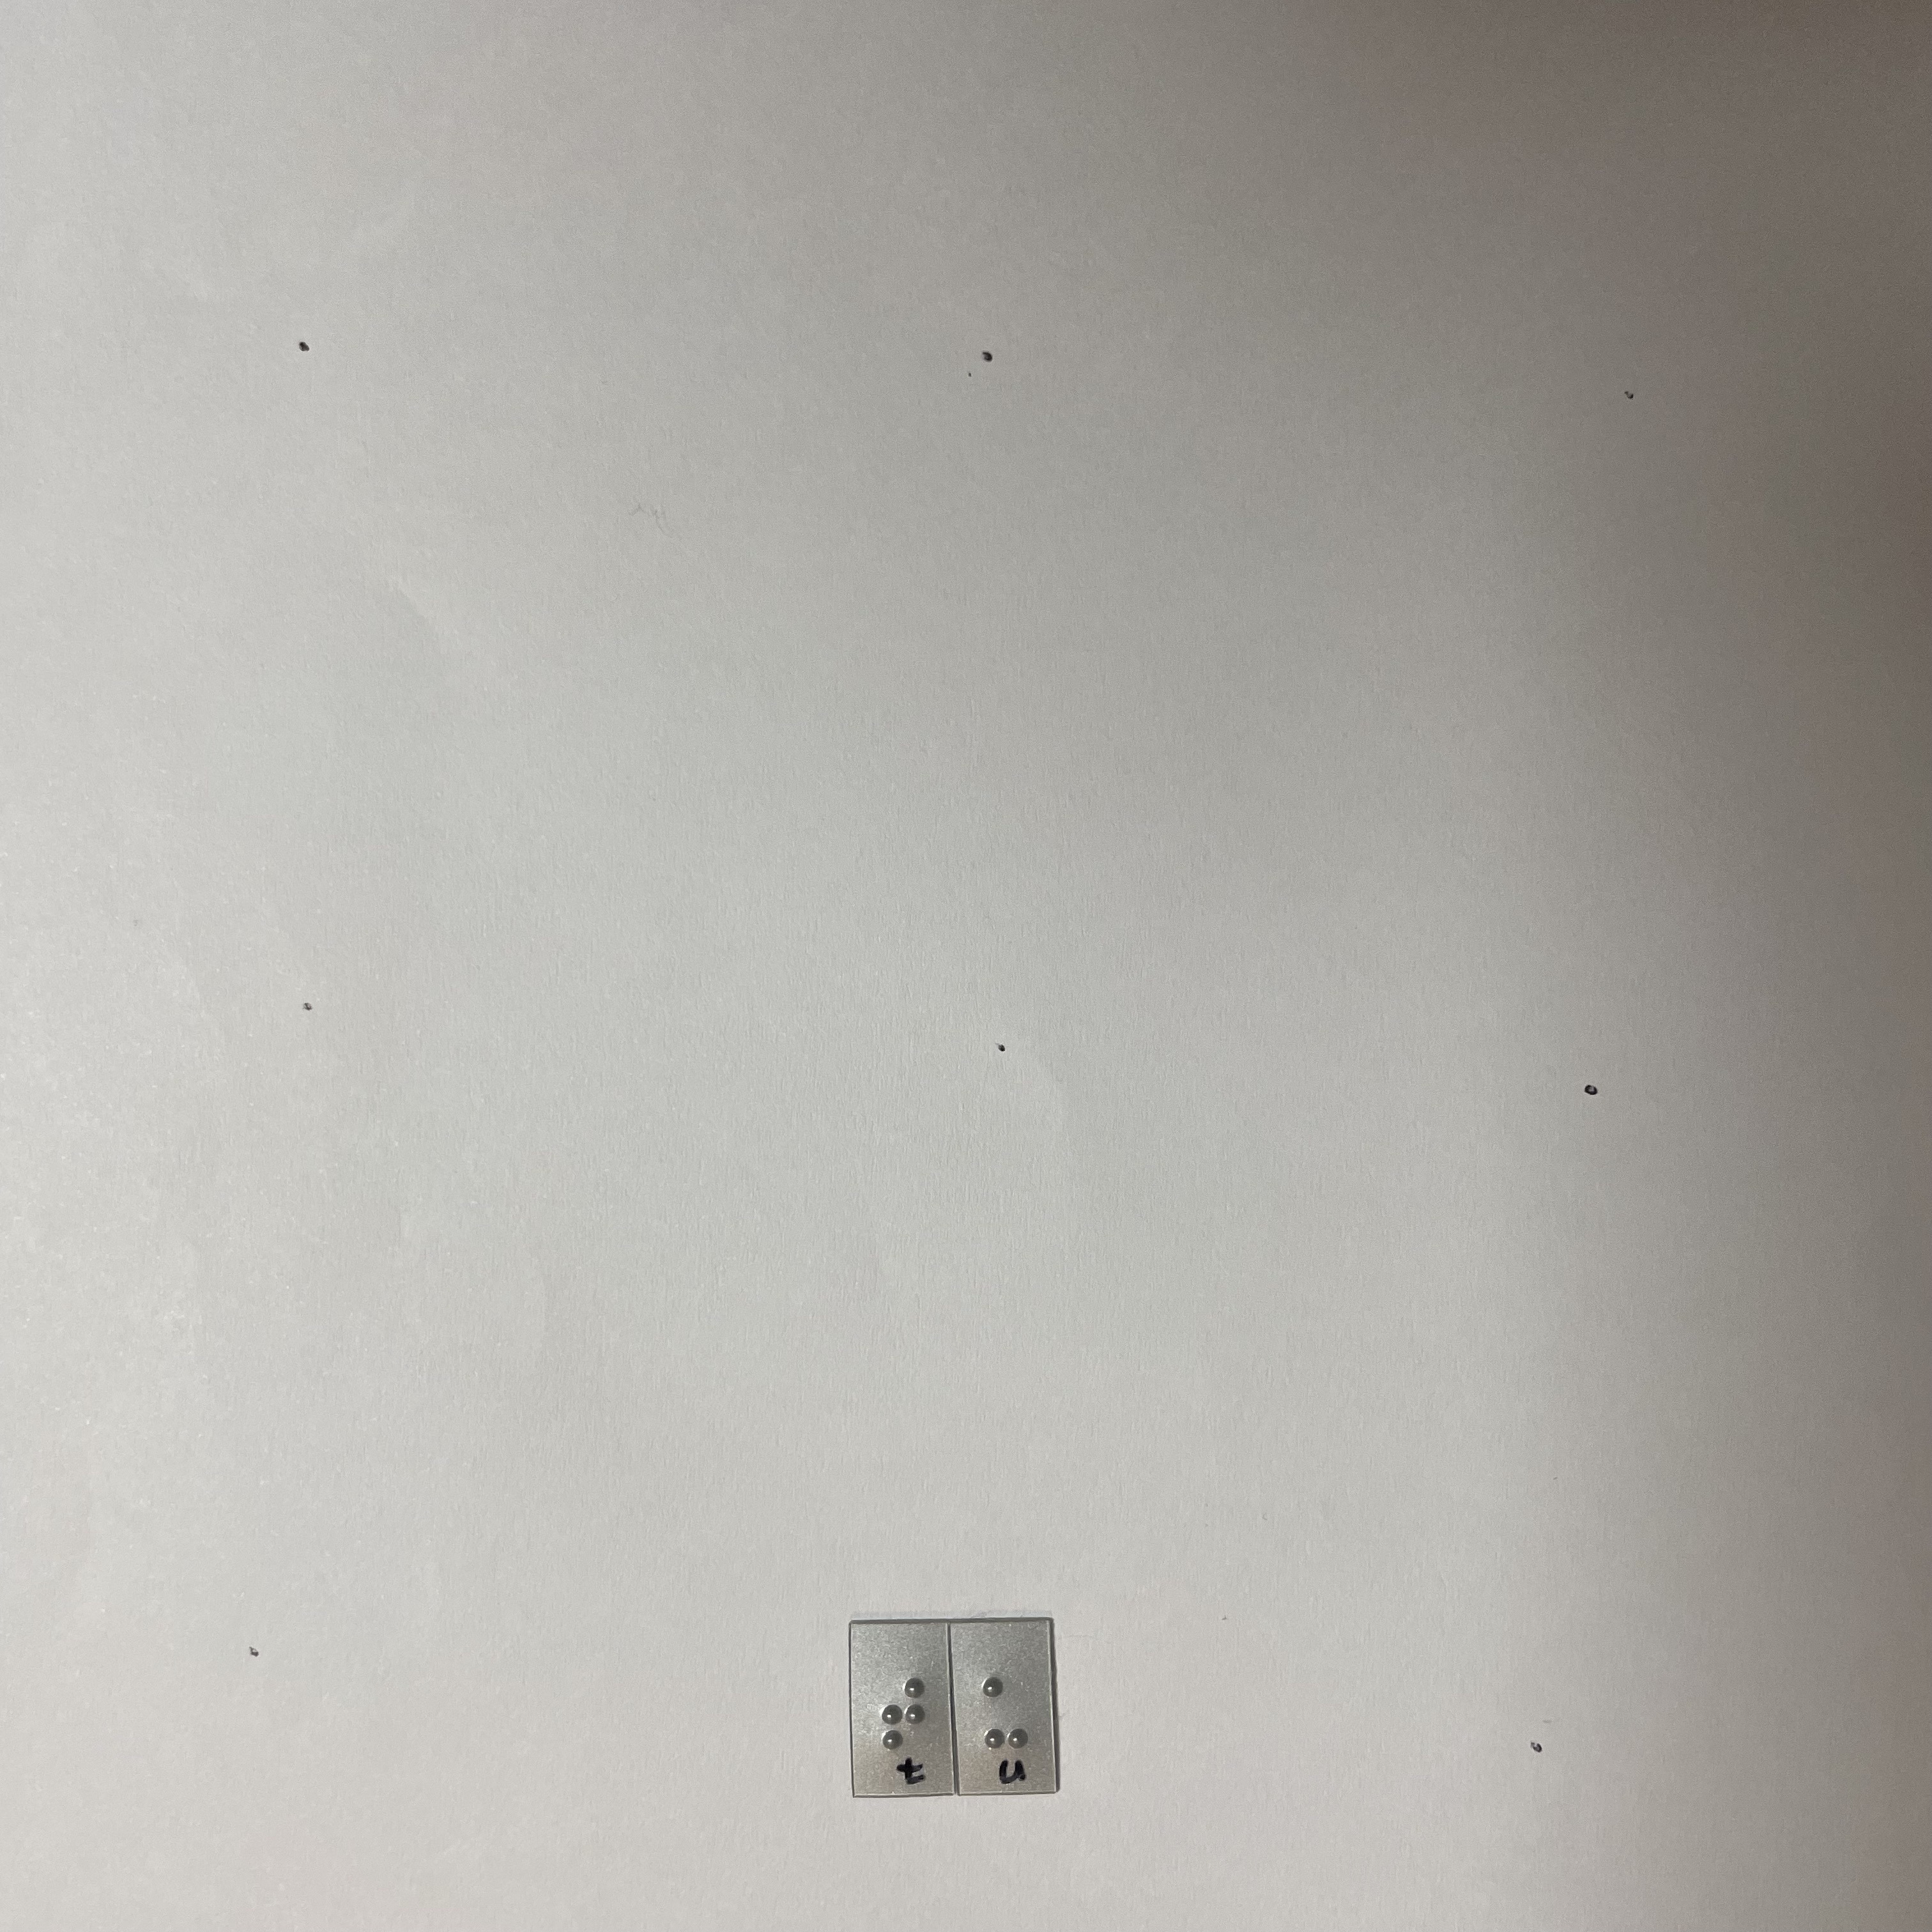t: (871, 1669, 935, 1763)
u: (975, 1664, 1039, 1756)
